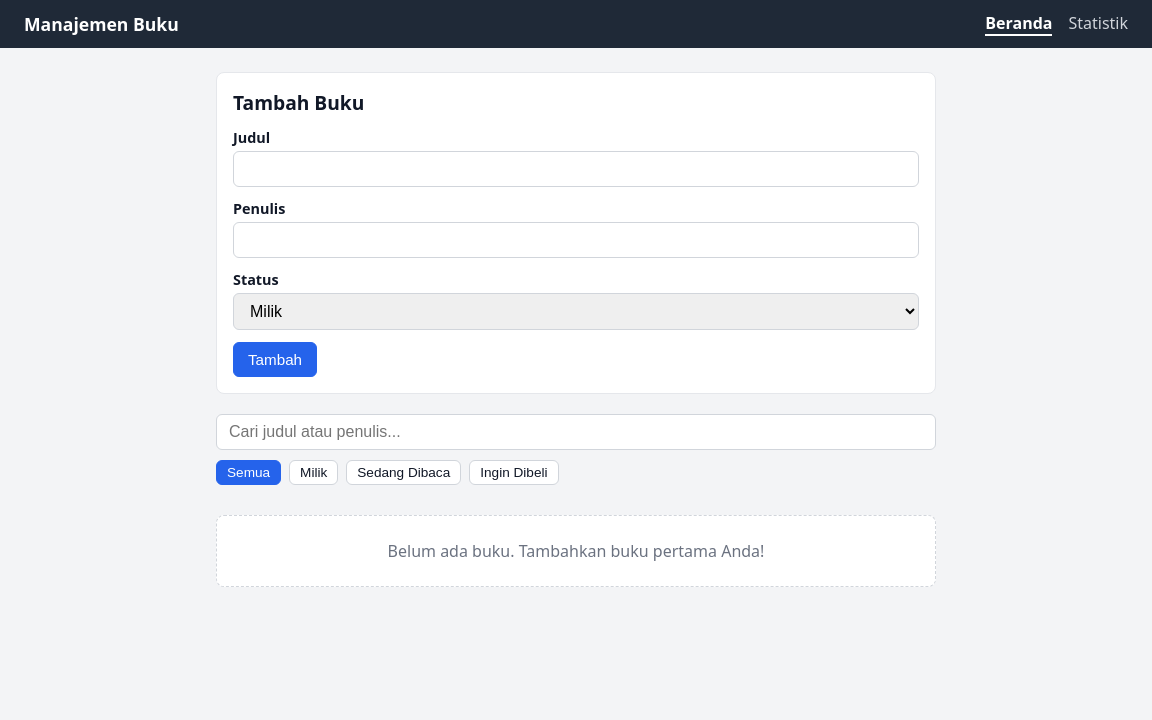
Scenario: Aplikasi Manajemen Buku (integrasi) › menghapus buku setelah konfirmasi, dan membatalkan jika konfirmasi ditolak
Type "Hapus Aku" into the field labelled "Judul" at x=576, y=169, box [233,151,919,187]
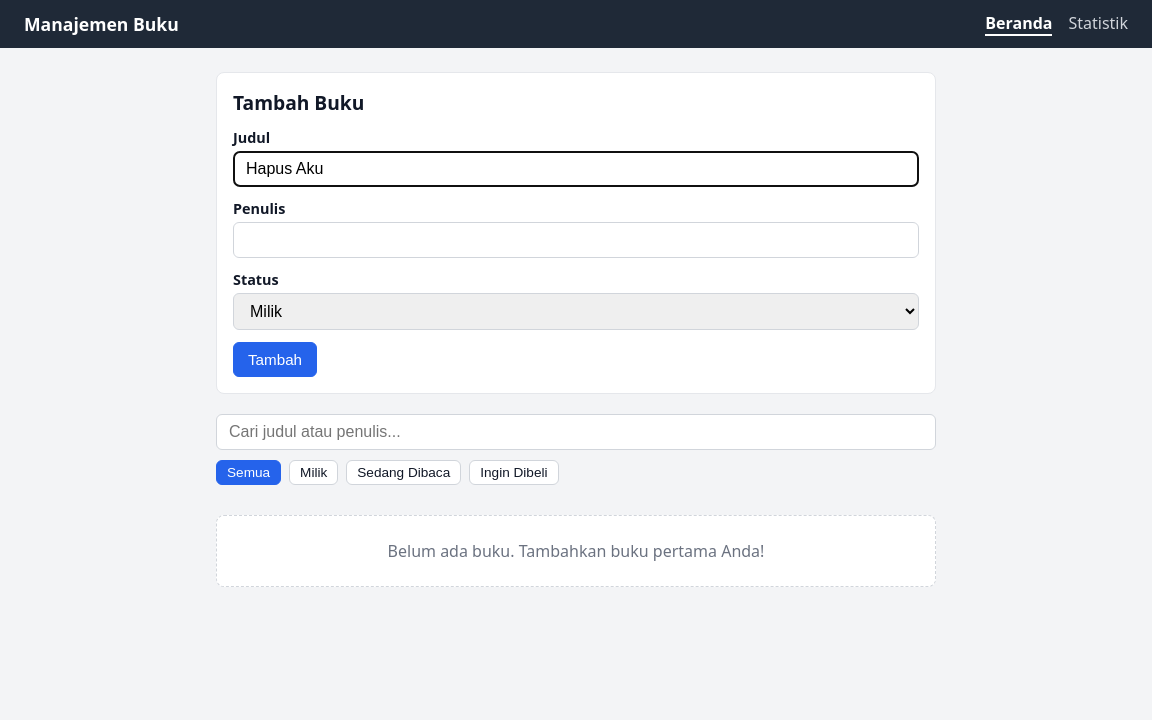
Type "Penulis A" into the field labelled "Penulis" at x=576, y=240, box [233,222,919,258]
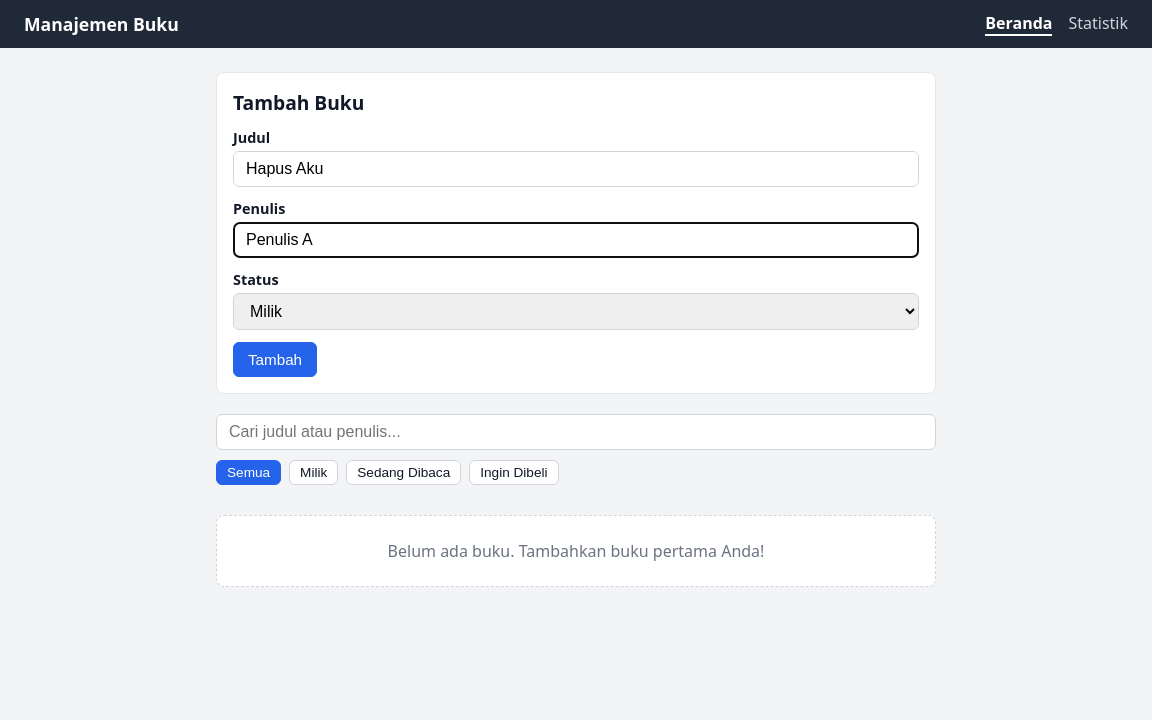
Select "Milik" in the dropdown labelled "Status" at x=576, y=312, box [233,293,919,330]
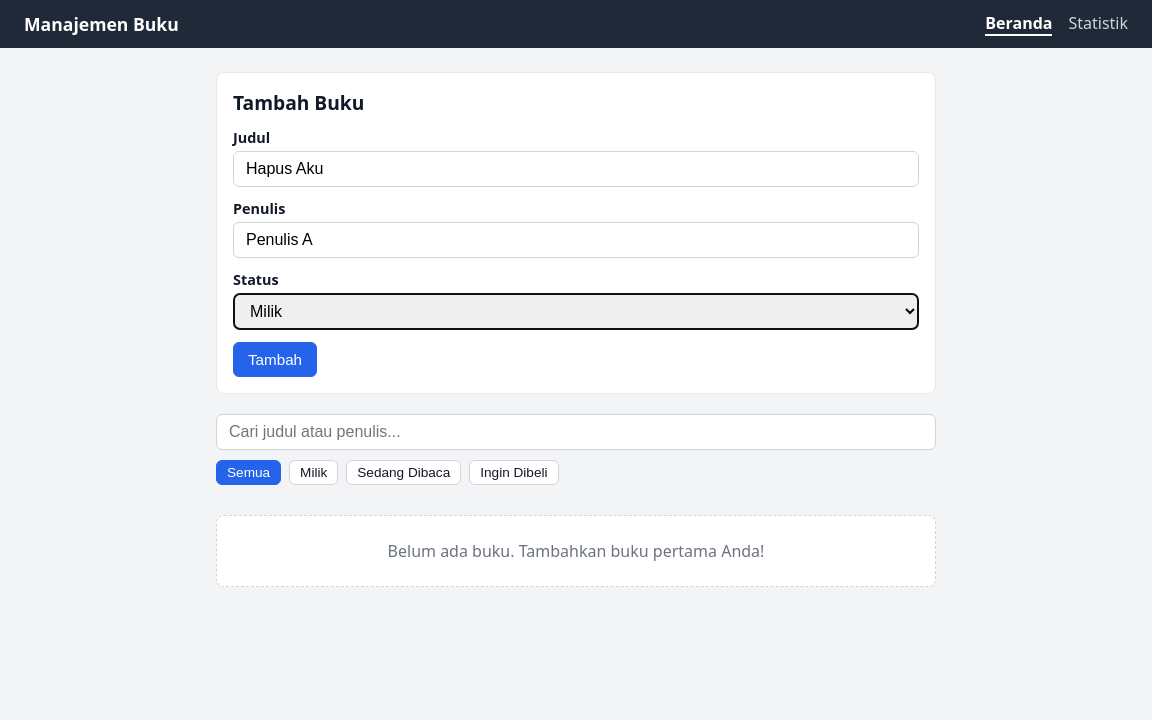
Click the button "Tambah" at x=275, y=360, box [233,342,317,377]
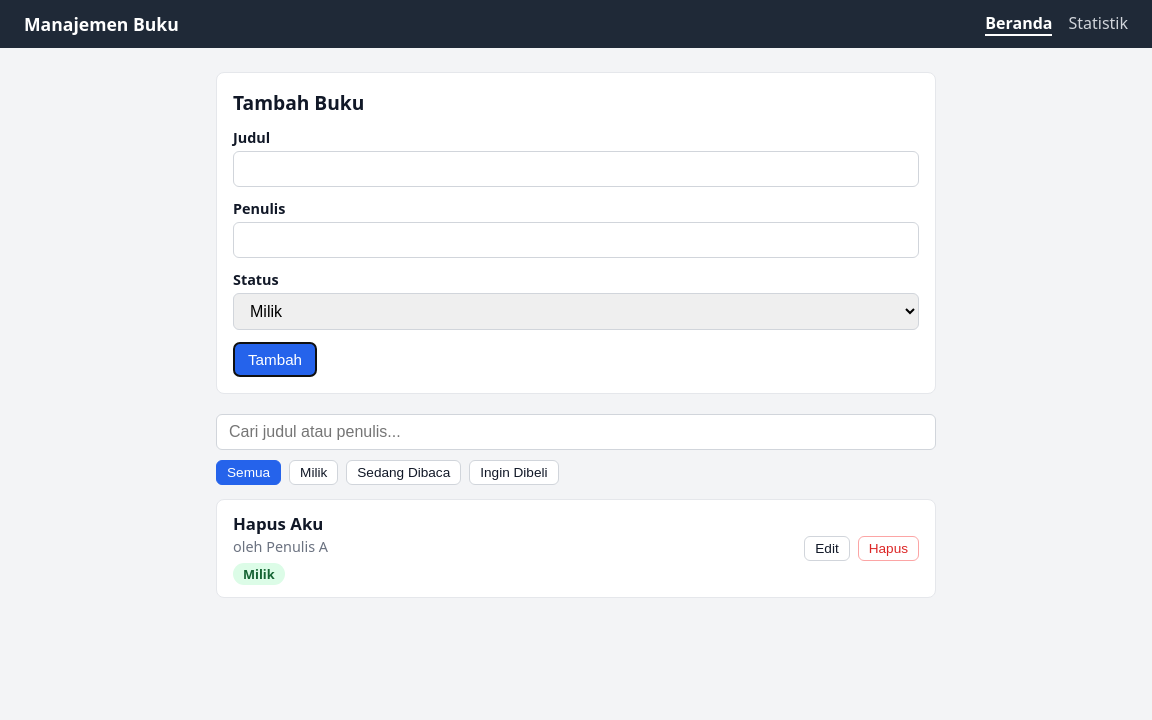
Click the button with aria-label "Hapus Hapus Aku" at x=888, y=548, box [858,536,919,561]
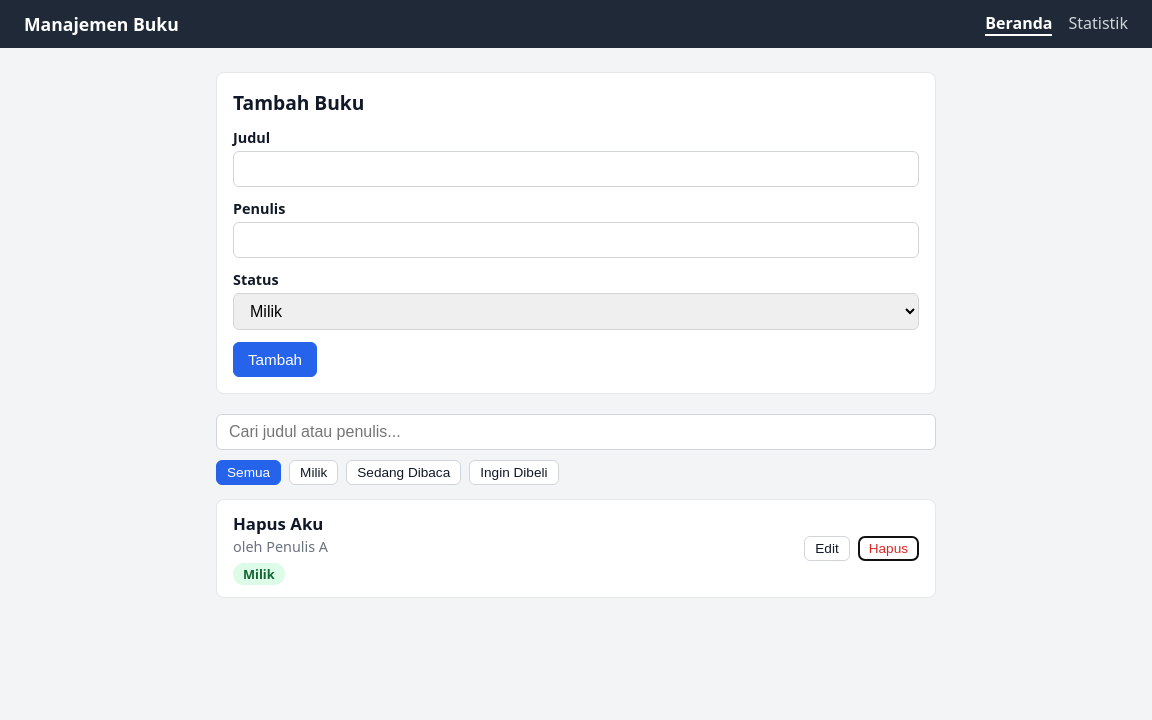
Expected: the heading "Hapus Aku" is shown, [233,512,328,535]
Click the button with aria-label "Hapus Hapus Aku" at x=888, y=548, box [858,536,919,561]
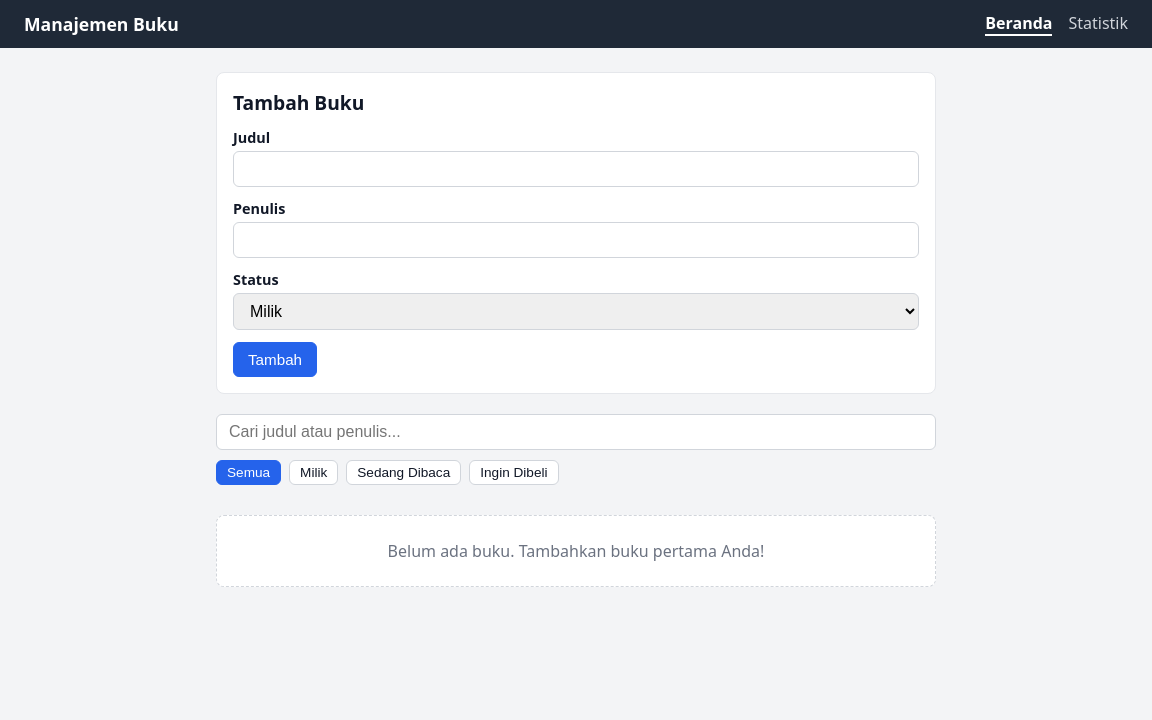
Expected: the heading "Hapus Aku" is gone
